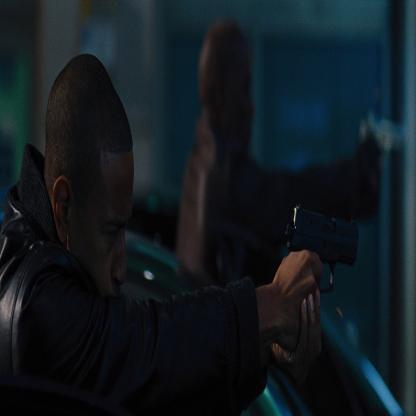gun: (281, 182, 374, 300)
